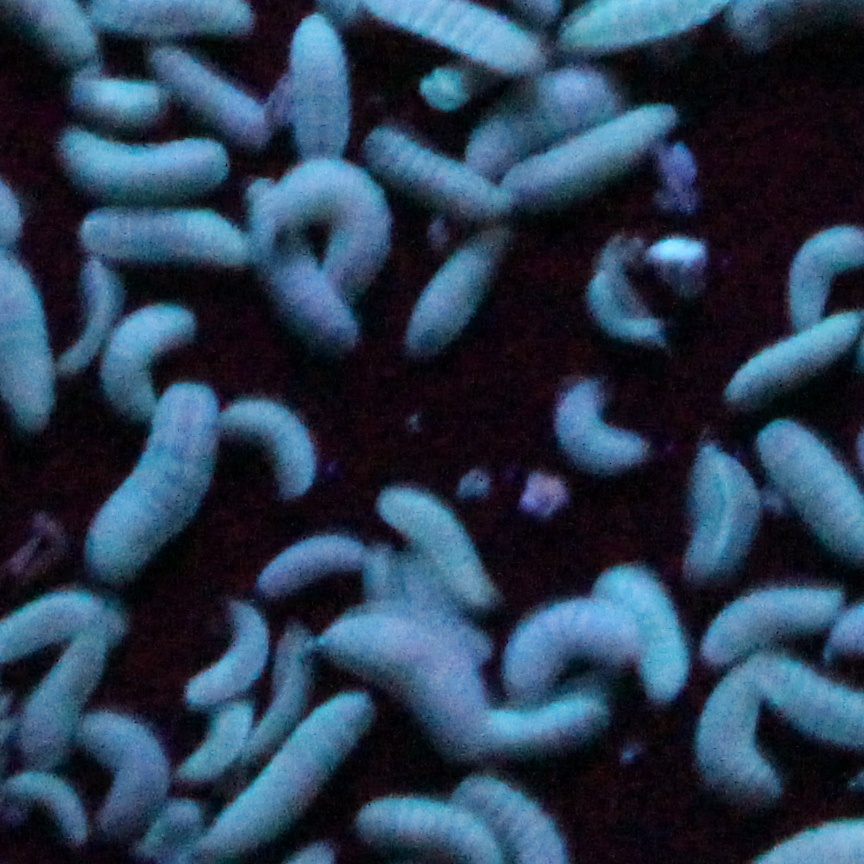larve: (205, 695, 380, 843), (85, 402, 220, 572), (324, 620, 486, 754), (513, 107, 690, 210), (248, 195, 349, 352), (271, 154, 385, 284), (411, 240, 525, 357), (59, 130, 227, 204), (485, 600, 630, 685), (700, 674, 785, 818), (371, 138, 502, 228), (532, 382, 657, 476), (602, 570, 689, 705), (384, 495, 492, 602), (85, 714, 174, 843), (25, 628, 108, 764), (282, 12, 357, 156), (163, 54, 275, 150), (66, 212, 248, 268), (101, 306, 192, 416), (693, 588, 844, 654), (220, 398, 319, 498), (466, 79, 603, 151), (679, 448, 751, 575), (488, 692, 613, 757), (187, 603, 267, 703), (244, 627, 310, 741), (257, 524, 361, 593), (63, 252, 116, 378), (66, 75, 174, 129), (186, 701, 246, 785)
